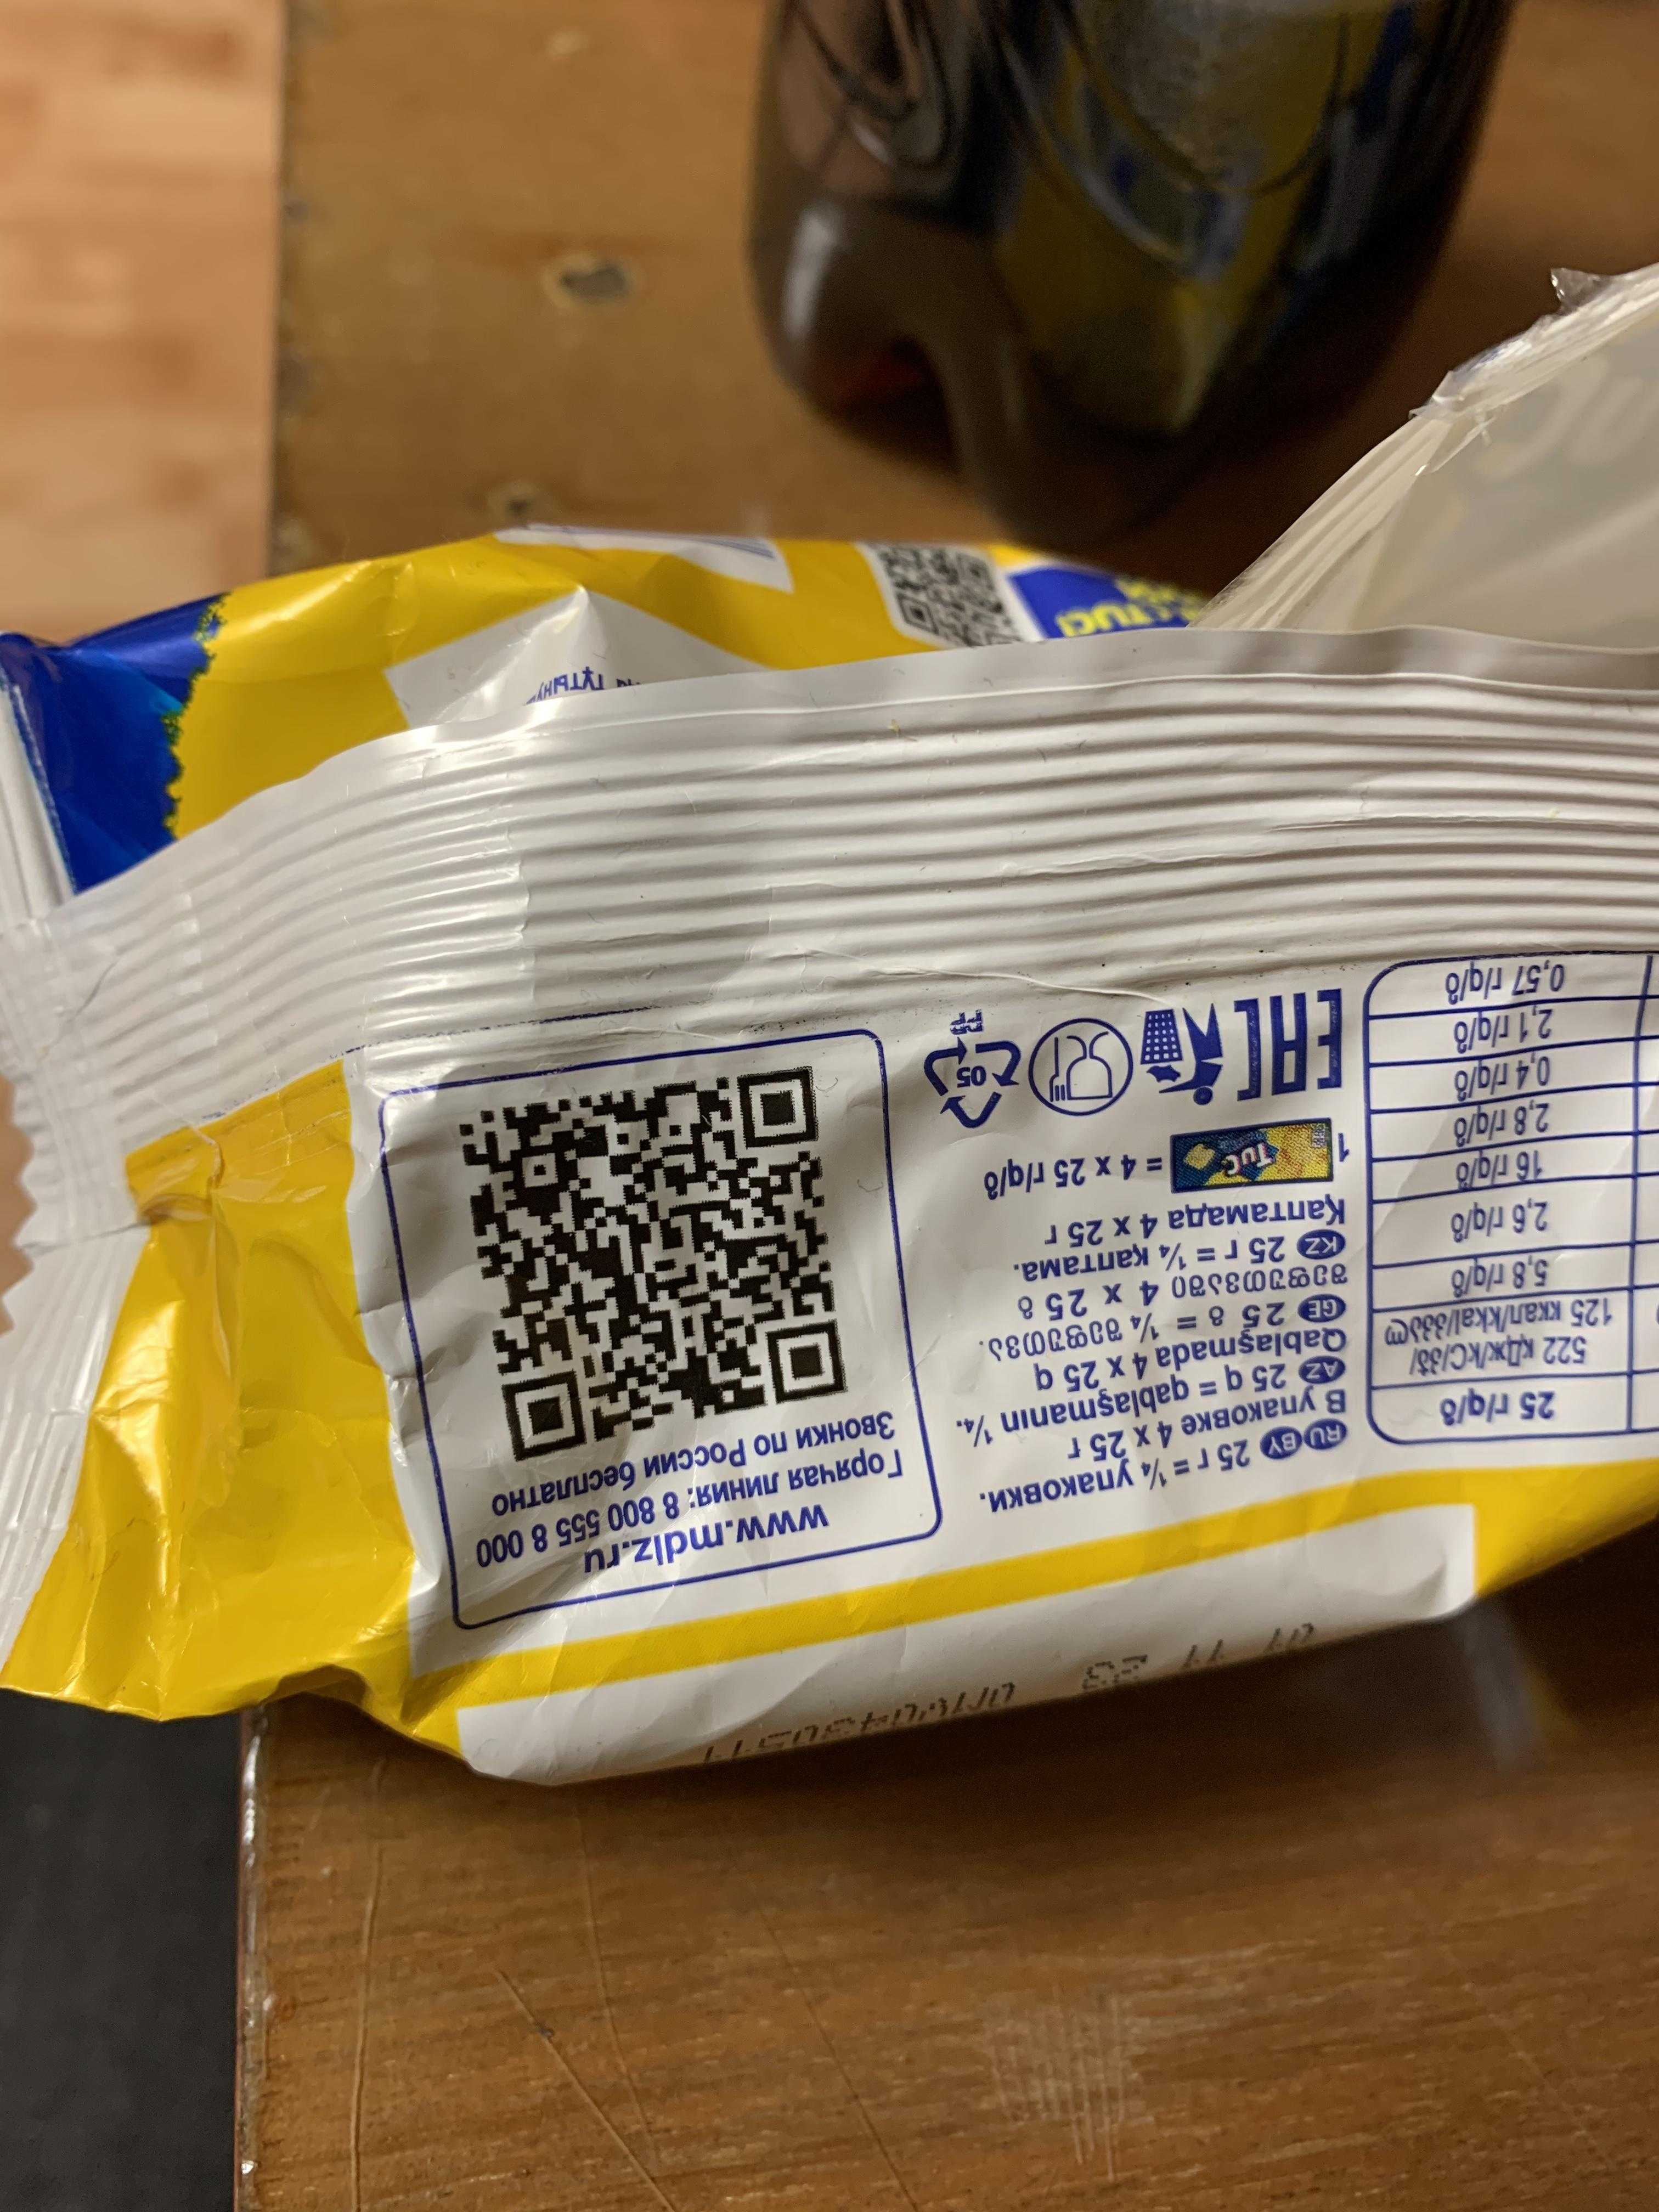qrcode: (458, 1064, 854, 1463)
